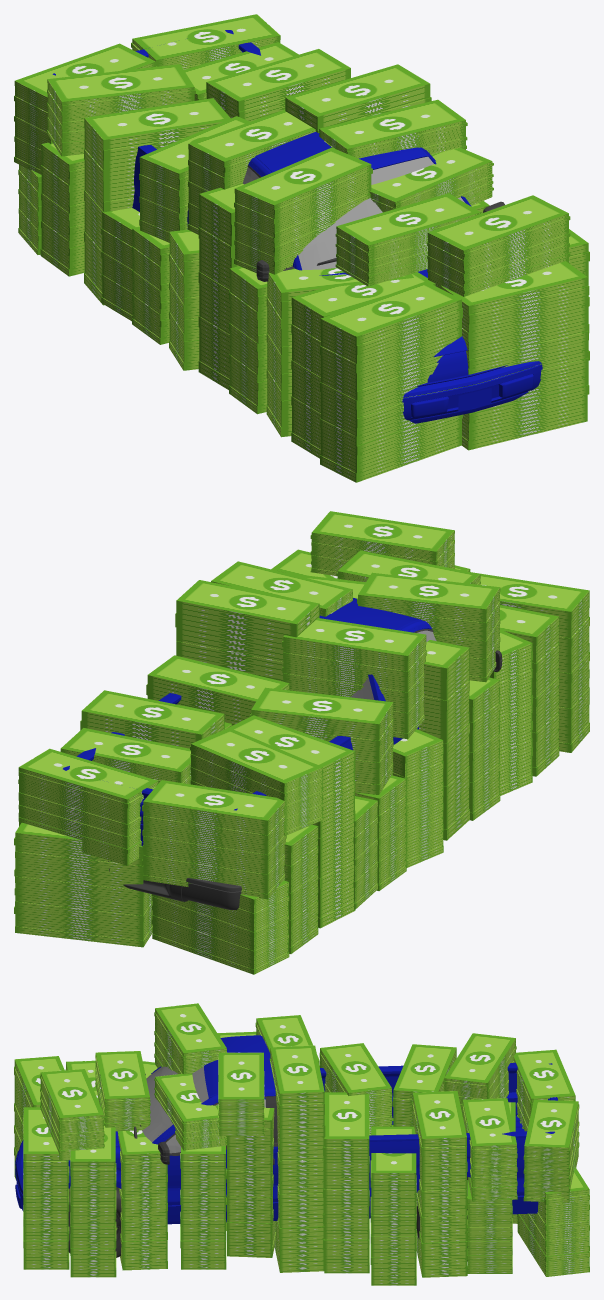
File: money_car_1money.fbx
3 renders of one model, top to bottom at view 1: azimuth 30°, elevation 25°; view 2: azimuth 150°, elevation 25°; view 3: azimuth 270°, elevation 25°, orthographic. The views are drawn at different scales.
Visible parts, largest first — view 1: Box1889, Box1886, Box1896, Box1890, Box1871, Box1891, Box1061, Box1888, Box1880, Object016_s_179, Object016_s_904, Box1883 (+16 smaller); view 2: Box1867, Box1048, Box1883, Box1892, Box1876, Box1054, Box1871, Box1896, Box1061, Box1894, Box1889, Box1880 (+16 smaller); view 3: Box1876, Box1868, Box1870, Box1869, Box1886, Box1885, Box1884, Box1877, Box1878, Object016_s_904, Box1048, Box1892 (+17 smaller).
Part boxes in pixels (box(x1,y1,x2,y2)): Box1889: box(320, 281, 462, 482); Box1886: box(440, 261, 589, 450); Box1896: box(234, 147, 372, 274); Box1890: box(427, 195, 570, 296); Box1871: box(84, 98, 230, 305); Box1891: box(335, 193, 480, 286); Box1061: box(47, 64, 195, 156); Box1888: box(291, 272, 435, 458); Box1880: box(198, 183, 243, 389); Object016_s_179: box(319, 269, 542, 423); Object016_s_904: box(243, 132, 504, 281); Box1883: box(188, 109, 315, 234); Box1867: box(142, 780, 286, 899); Box1048: box(14, 822, 152, 947); Box1883: box(282, 618, 426, 739); Box1892: box(18, 748, 158, 865); Box1876: box(175, 580, 319, 681); Box1054: box(151, 880, 289, 974); Box1871: box(227, 715, 355, 928); Box1896: box(357, 572, 500, 682); Box1061: box(190, 728, 323, 835); Box1894: box(250, 687, 393, 794); Box1889: box(474, 572, 589, 752); Box1880: box(418, 640, 469, 840); Box1876: box(269, 1045, 325, 1272); Box1868: box(412, 1091, 467, 1277); Box1870: box(323, 1092, 369, 1273); Box1869: box(370, 1126, 416, 1285); Box1886: box(23, 1107, 69, 1269); Box1885: box(70, 1125, 116, 1277); Box1884: box(116, 1130, 167, 1270); Box1877: box(226, 1107, 275, 1257); Box1878: box(180, 1146, 226, 1269); Object016_s_904: box(134, 1035, 278, 1224); Box1048: box(517, 1167, 589, 1276); Box1892: box(523, 1099, 579, 1202).
Size of the model in its own units: 209 by 162 by 466.
